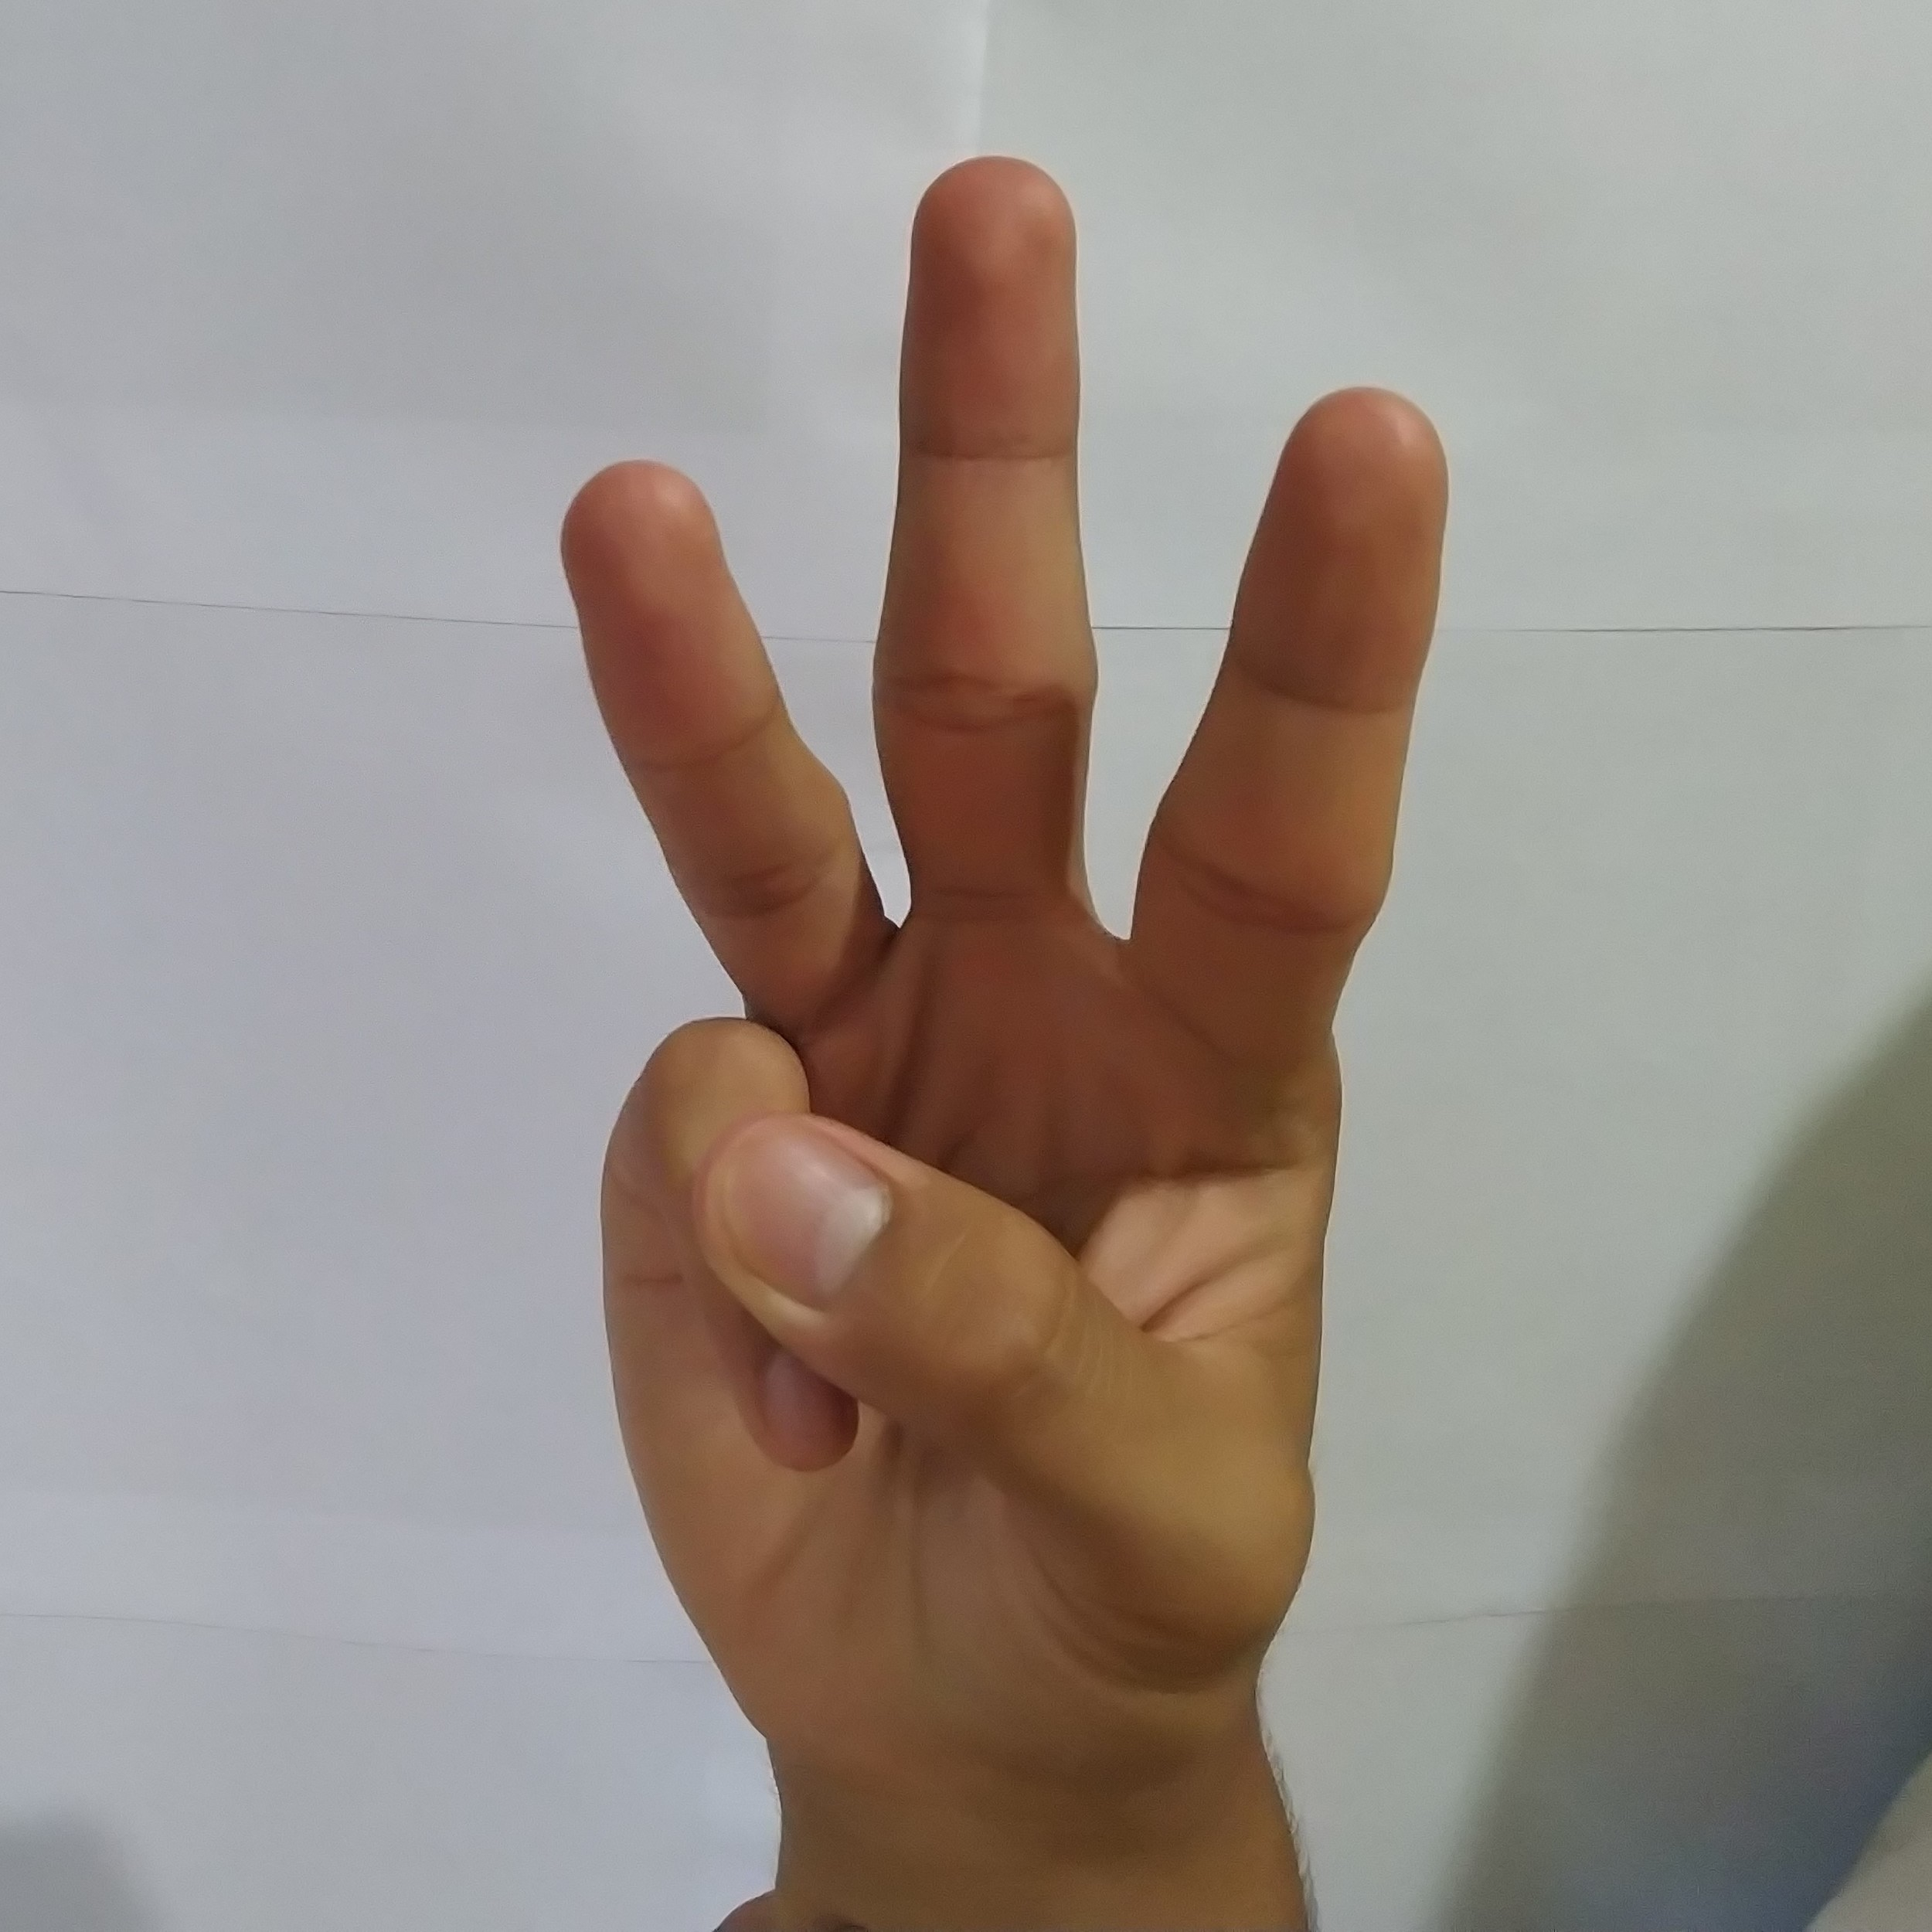W: (533, 133, 1481, 1773)
